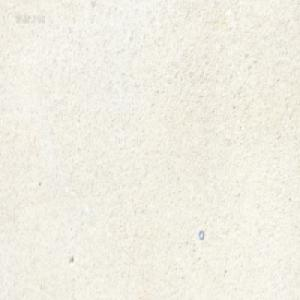Washer: (198, 229, 204, 239)
